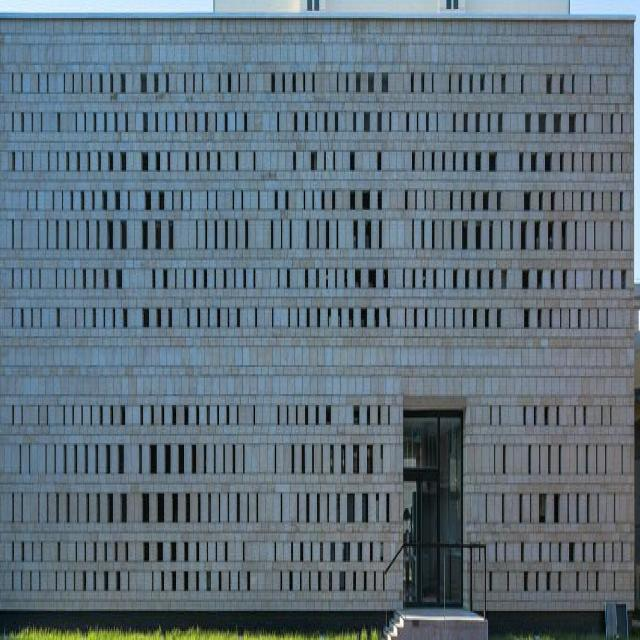door: (402, 465, 438, 606)
wall: (0, 0, 635, 616)
windows: (404, 418, 466, 604)
